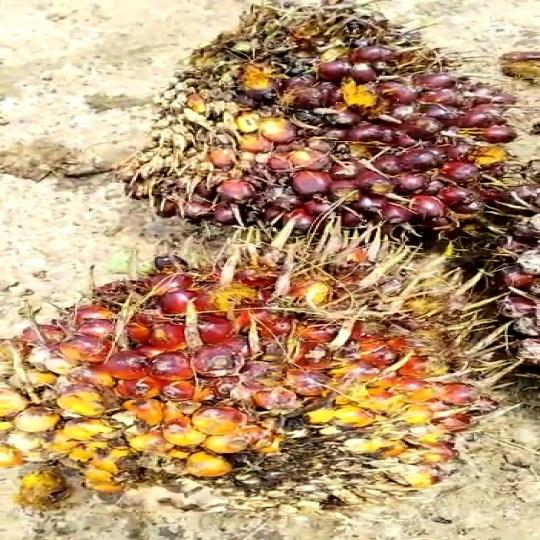masak: (0, 206, 517, 507), (117, 0, 540, 237)
